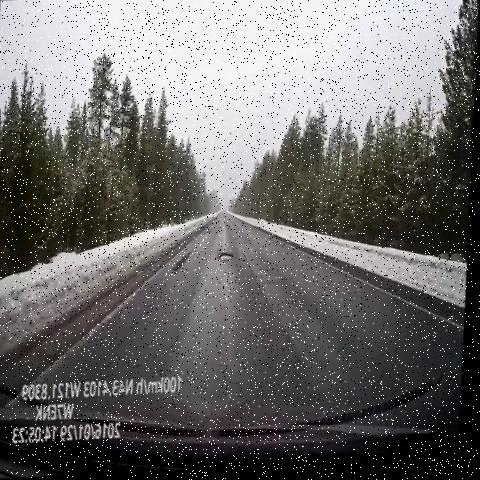pothole: (171, 245, 204, 283), (212, 251, 243, 269), (205, 221, 220, 244)
